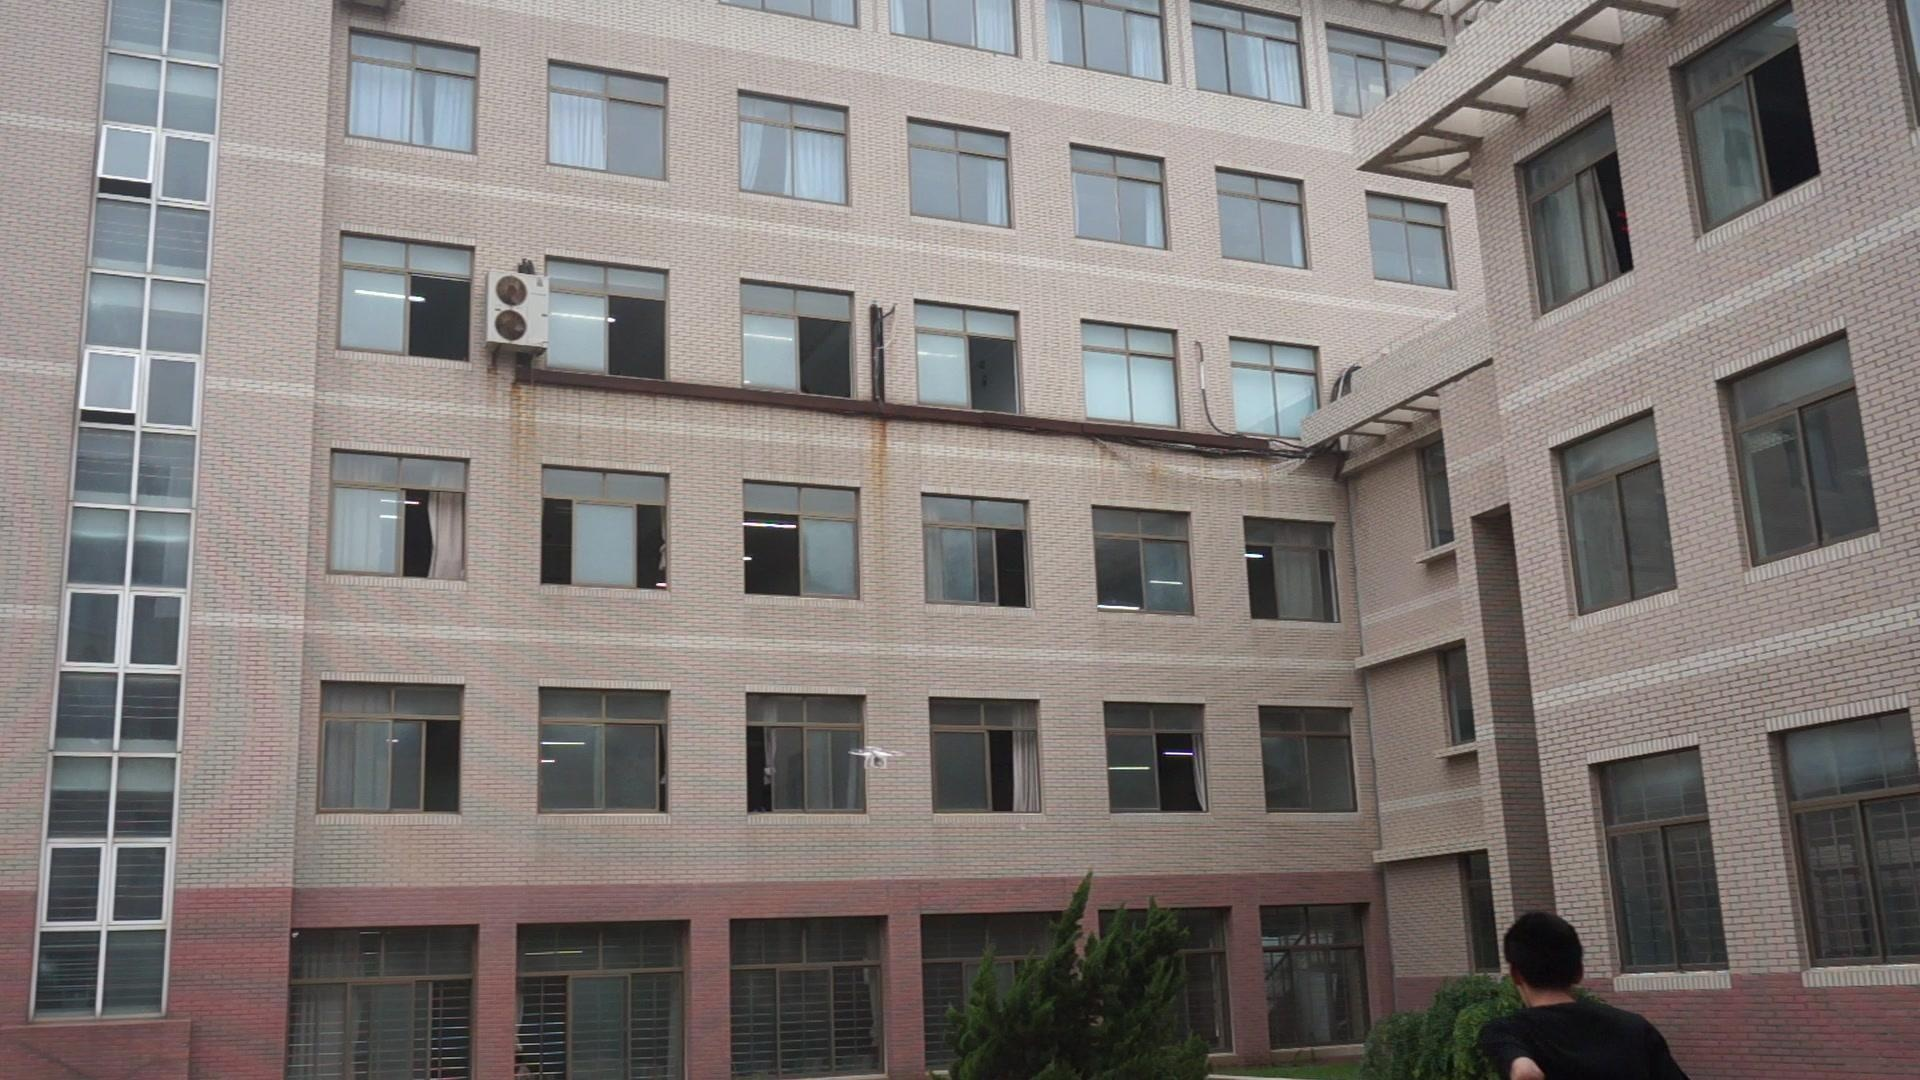UAV: (849, 746, 902, 769)
